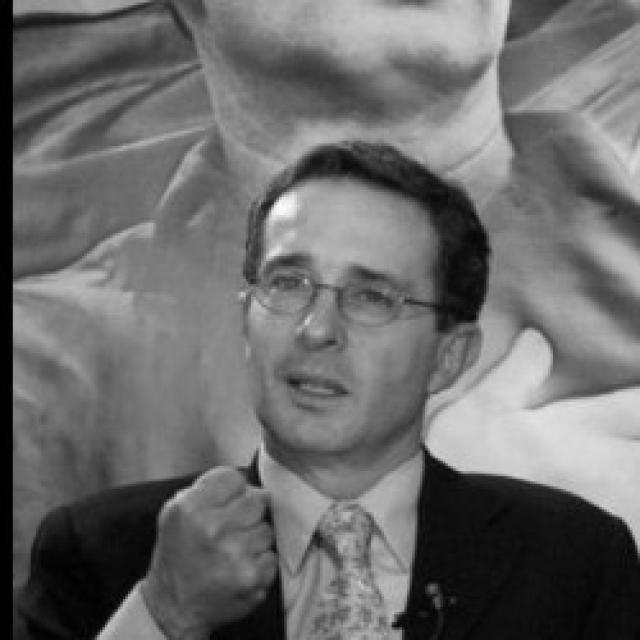real: (244, 156, 482, 466), (260, 259, 408, 326)
